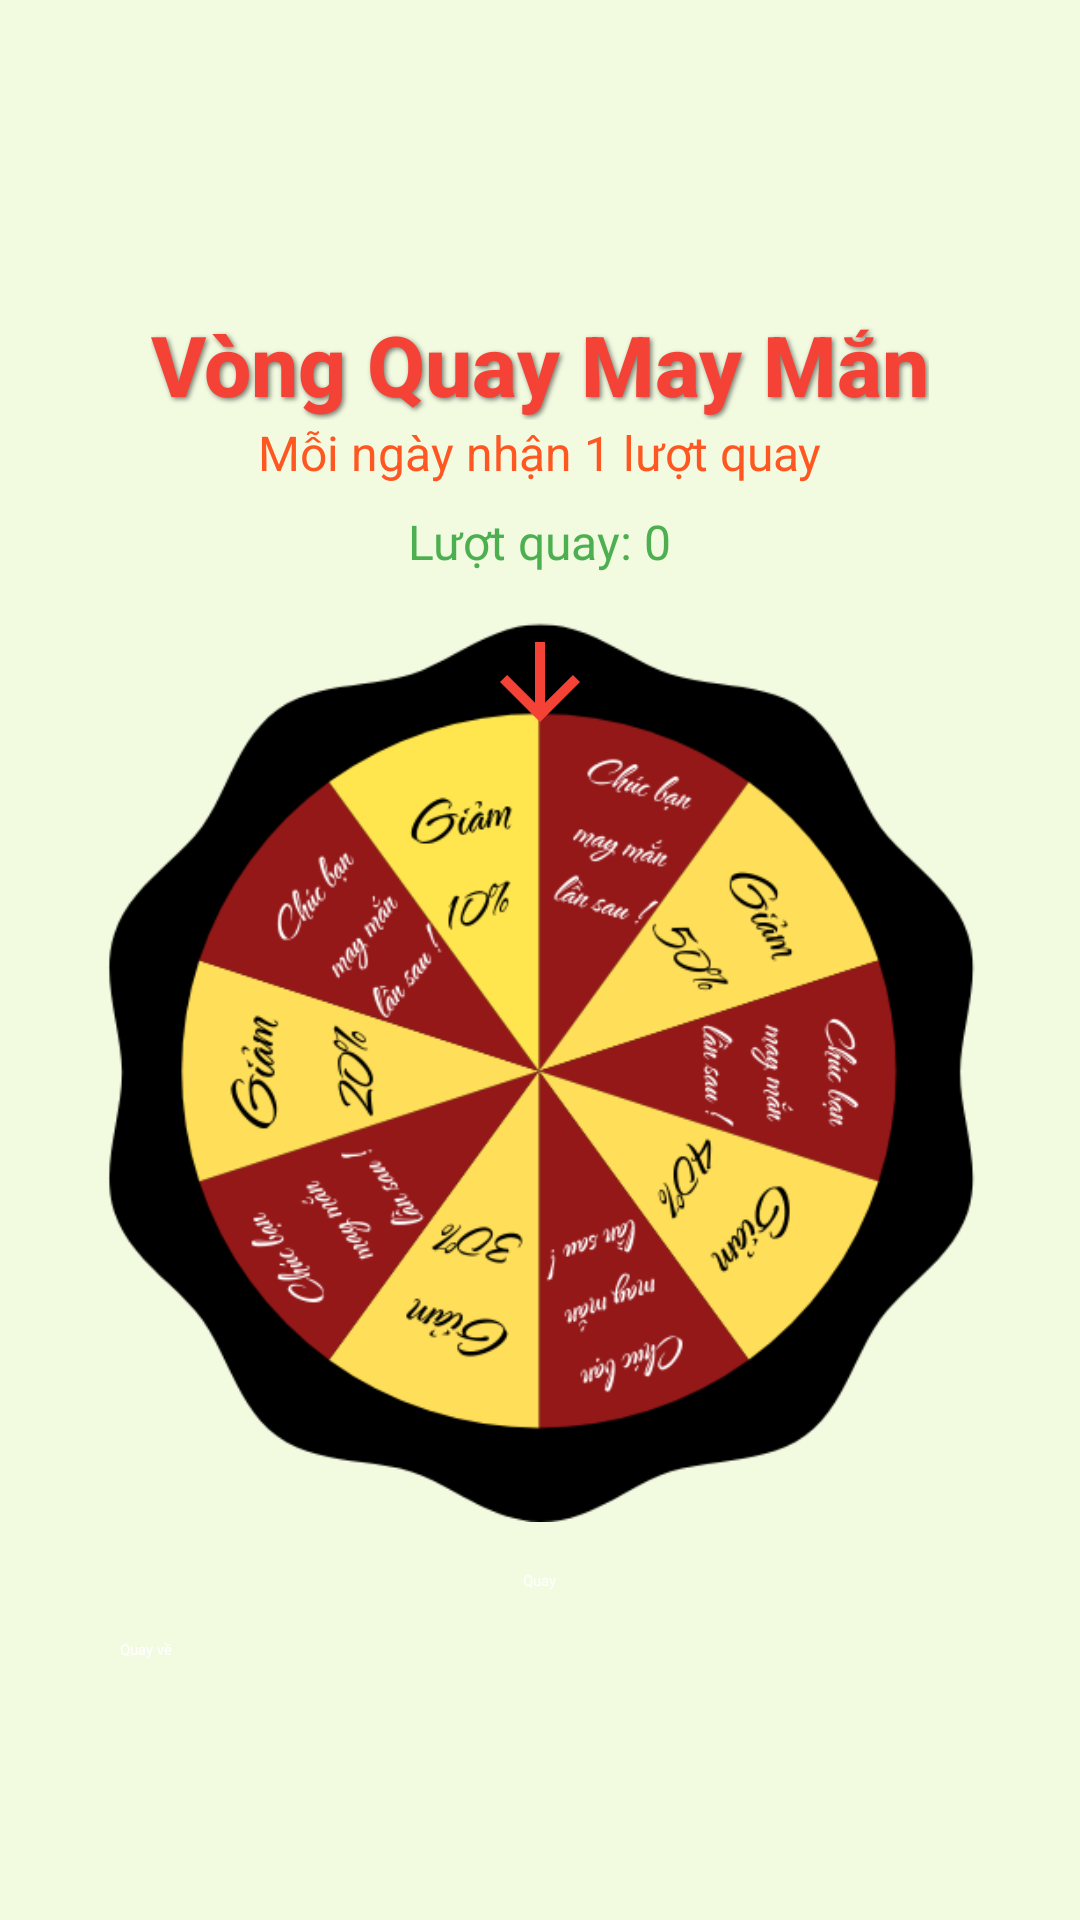

Screen size 1080×1920. Icon name, then its center in pixels as point (x, y):
arrow: point (540, 682)
